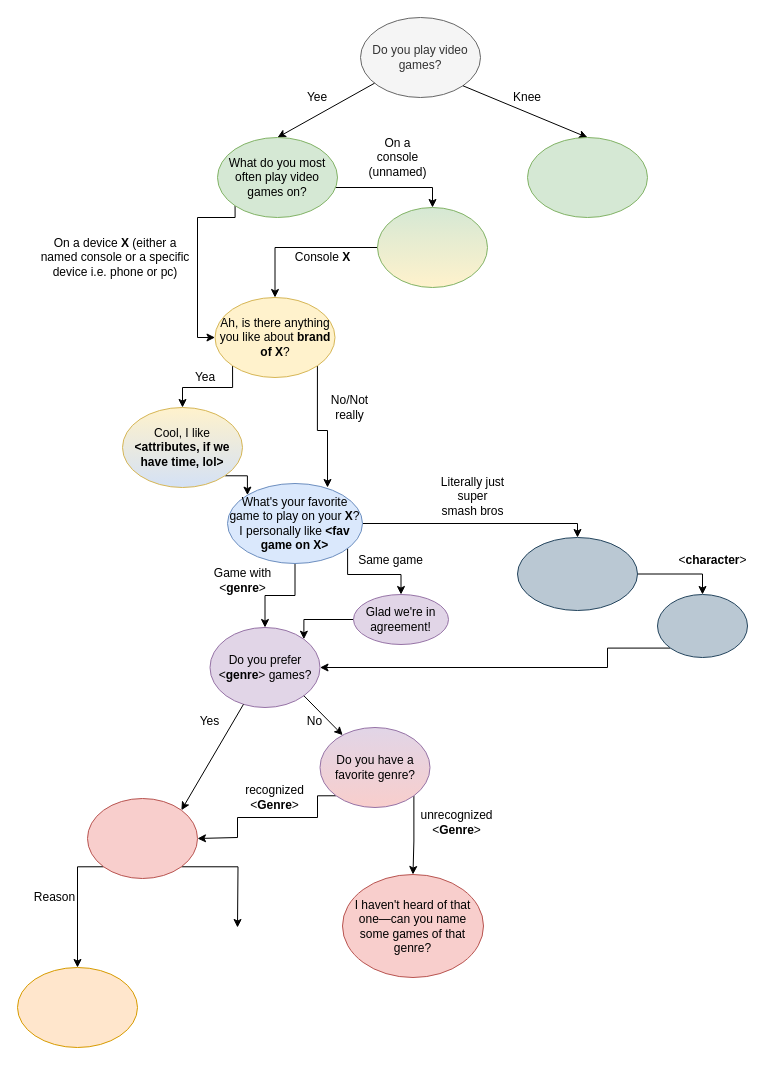
The diagram is 765 pixels wide and 1065 high, and some of its shapes have lost their labels. Here are the shapes that lost their labels. From the top down, the box of each, then its label:
(526, 136, 648, 218): Aw. Why not?
(376, 206, 488, 288): What console do you have?
(516, 536, 638, 610): Which character do you play in smash?
(656, 594, 748, 658): Response
(86, 798, 198, 878): What do you like about < genre > games?
